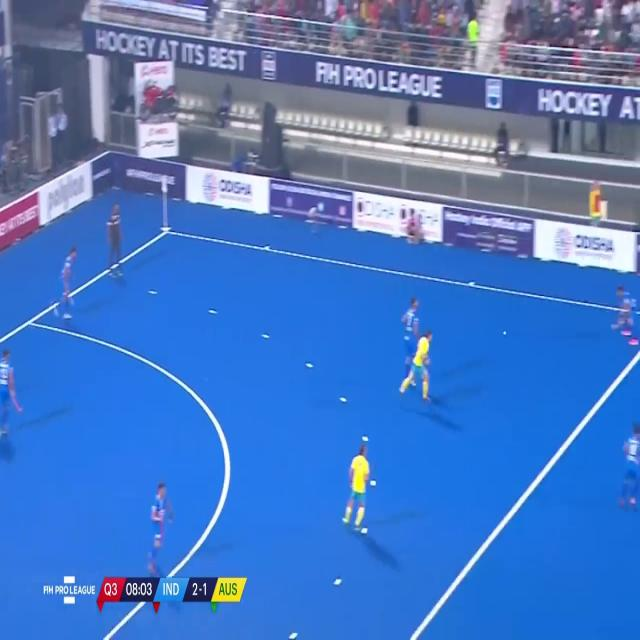ball: (502, 329, 507, 337)
